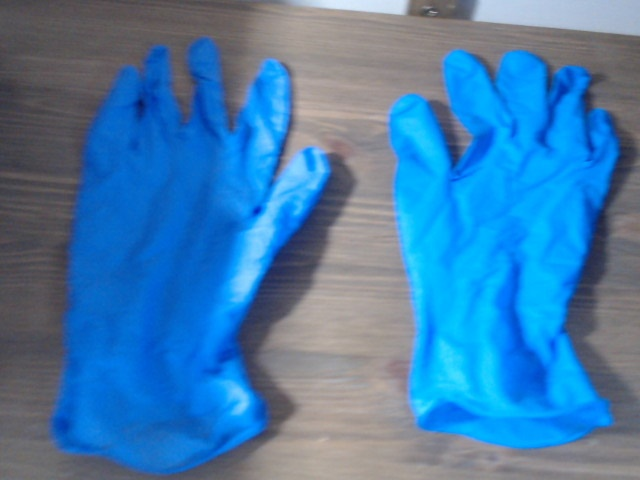medical_glove: (54, 38, 329, 469), (388, 47, 615, 445)
